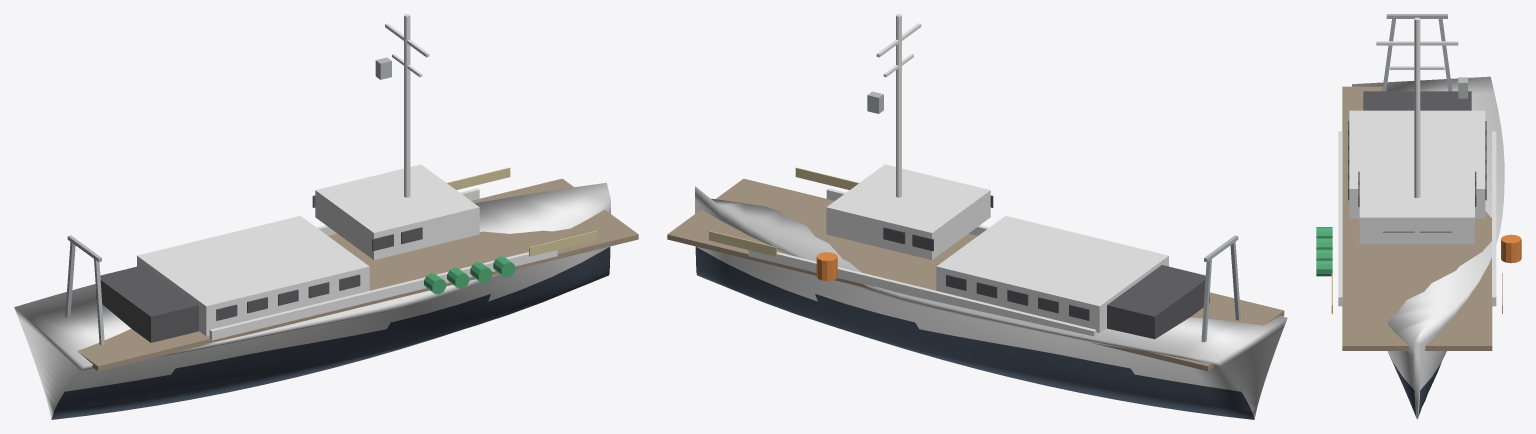
Rendered from fveileen.glb.
3 views of the same model, side by side, from view 1: azimuth 30°, elevation 25°; view 2: azimuth 150°, elevation 25°; view 3: azimuth 270°, elevation 25° (orthographic).
Visible parts, largest first — view 1: FVEileen; view 2: FVEileen; view 3: FVEileen.
Boxes of the visible parts, left/top/right/bottom form: FVEileen: left=14, top=14, right=638, bottom=419; FVEileen: left=667, top=14, right=1287, bottom=419; FVEileen: left=1316, top=14, right=1521, bottom=419.
Bounding box in the file's own units: 58 × 33.3 × 18.8.
